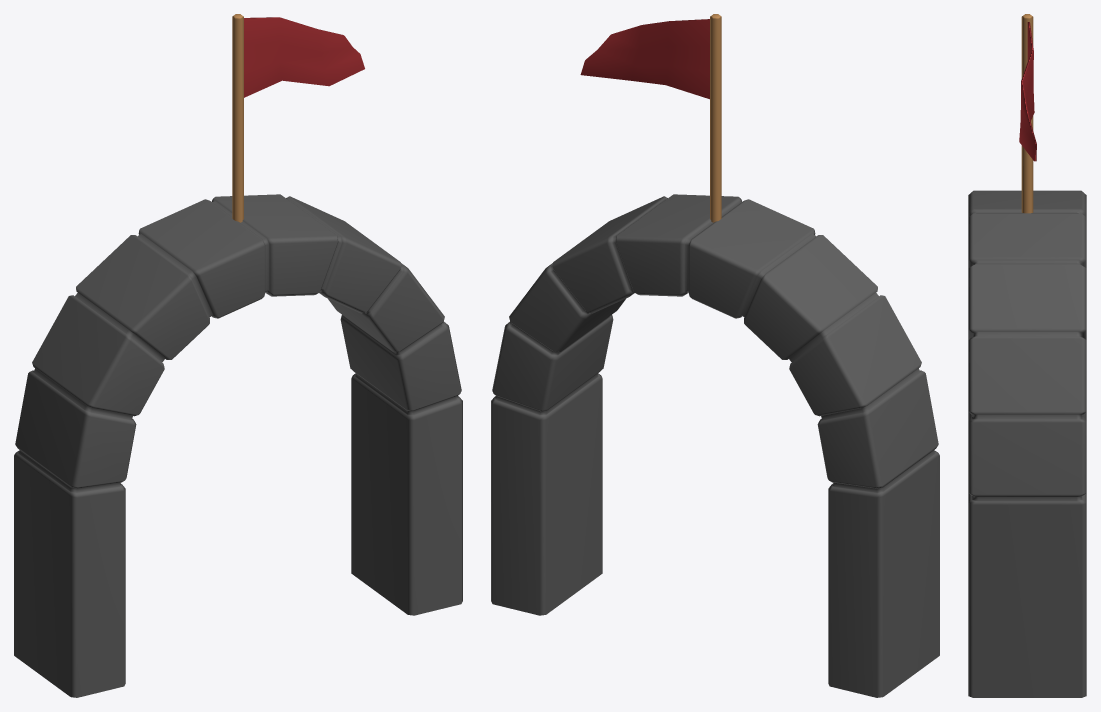
The model's file is SM_endGate.fbx.
3 views of the same model, side by side, from view 1: azimuth 30°, elevation 25°; view 2: azimuth 150°, elevation 25°; view 3: azimuth 270°, elevation 25° (orthographic). The views are drawn at different scales.
Parts seen in each view (by area): view 1: SM_endGate; view 2: SM_endGate; view 3: SM_endGate.
Boxes of the visible parts, left/top/right/bottom form: SM_endGate: left=14, top=14, right=462, bottom=697; SM_endGate: left=491, top=14, right=939, bottom=697; SM_endGate: left=968, top=14, right=1086, bottom=697.
Bounding box in the file's own units: 0.2716 × 1 × 1.49.
